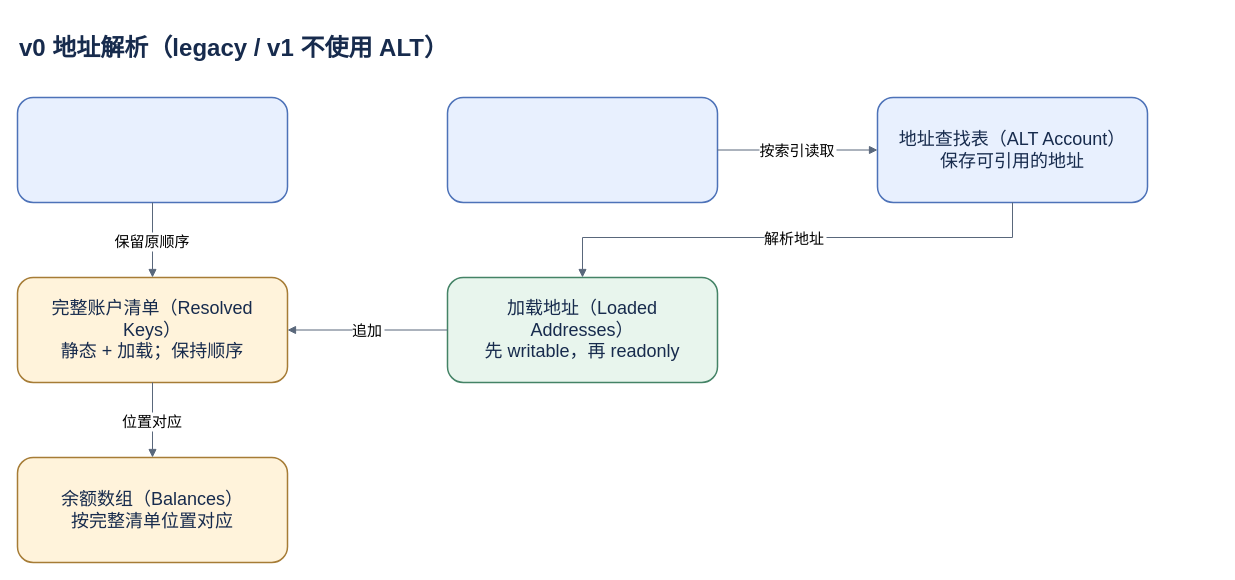
Image size: 1235x580. Some labels were removed from this diagram. The shapes that lost their labels are listed below. From the top down, each one's box as (x1, y1, x2, y2) in pixels, then its label:
(16, 96, 288, 203): 静态地址（Static Keys） 写入 v0 Message
(446, 96, 718, 203): 查找引用（ALT Lookup） 表地址 + writable/readonly 索引
